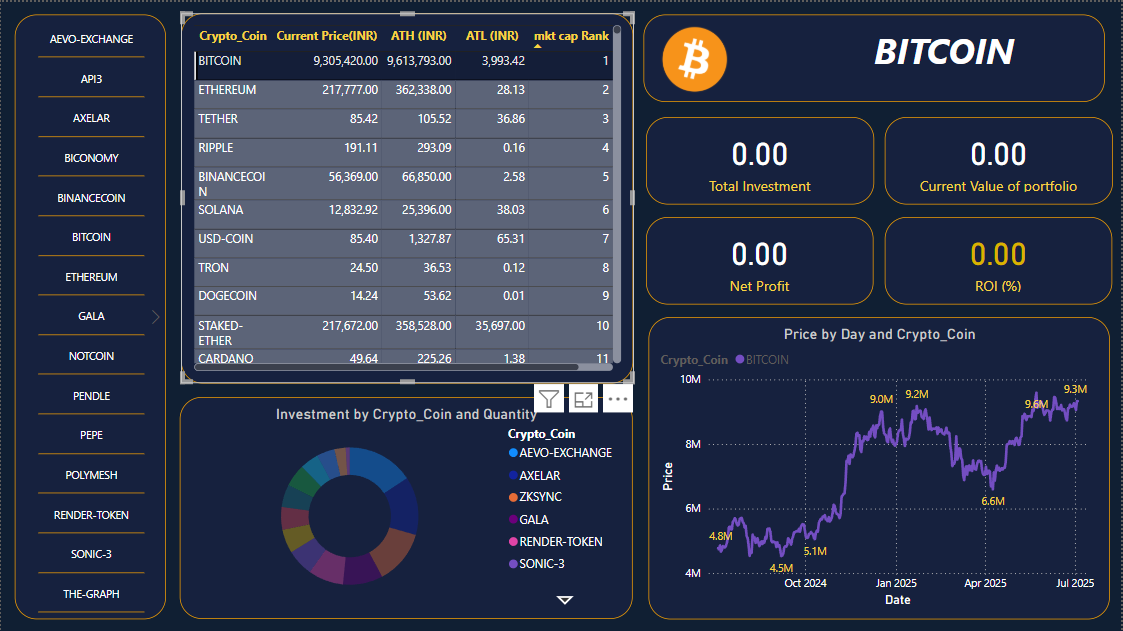

The page's visual inventory and layout, read from the dashboard file:
{"tool":"powerbi","page":{"name":"Overview","canvas":[1280,720],"ordinal":0},"visuals":[{"type":"tableEx","fields":{"Values":["Crypto_coin data.Crypto_Coin","Crypto_coin data.Current Price(INR)","Crypto_coin data.ATH (INR)","Crypto_coin data.ATL (INR)","Crypto_coin data.Market Cap Rank","Crypto_coin data.image"]},"box":[205.7,12.9,517.1,422.9],"z":0},{"type":"lineChart","title":" Price by Day and Crypto_Coin","fields":{"Category":["Historical coin data.Date"],"Y":["Avg(Historical coin data.Price)"],"Series":["Historical coin data.Crypto_Coin"]},"box":[737.4,359.5,527,346.1],"z":1000},{"type":"donutChart","title":"Investment by Crypto_Coin and Quantity","fields":{"Category":["Portfolio.Crypto_Coin"],"Y":["Avg(Portfolio.Initial Investment)"],"Series":["Portfolio.Quantity"]},"box":[204.5,451.5,517.3,253.9],"z":2000},{"type":"card","fields":{"Values":["Portfolio.Initial Investment of portfoilio"]},"box":[736.9,131,260.7,100],"z":3000},{"type":"card","fields":{"Values":["Portfolio.Current Value of portfolio"]},"box":[1010,131,260.7,100.2],"z":4000},{"type":"card","fields":{"Values":["Portfolio.ROI (%)"]},"box":[1010,245,260,100],"z":5000},{"type":"card","fields":{"Values":["Portfolio.Net Profit"]},"box":[737.1,245,260,100],"z":6000},{"type":"slicer","fields":{"Values":["Portfolio.Crypto_Coin"]},"box":[15.7,14.3,172.9,691.4],"z":7000},{"type":"multiRowCard","fields":{"Values":["Crypto_coin data.image1","Portfolio.Coin Name"]},"box":[734.3,14.3,527.1,100],"z":8000},{"type":"actionButton","box":[838.6,31.4,148.6,65.7],"z":9000}]}

Visuals, with their boxes in screenshot pixels (x1, y1, x2, y2), scaled from the page's 1280x720 canvas onto the 1123x631 screenshot:
tableEx - Crypto_coin data.Crypto_Coin x Crypto_coin data.Current Price(INR): 180/11/634/382
" Price by Day and Crypto_Coin" lineChart: 647/315/1109/618
"Investment by Crypto_Coin and Quantity" donutChart: 179/396/633/618
card - Portfolio.Initial Investment of portfoilio: 647/115/875/202
card - Portfolio.Current Value of portfolio: 886/115/1115/203
card - Portfolio.ROI (%): 886/215/1114/302
card - Portfolio.Net Profit: 647/215/875/302
slicer - Portfolio.Crypto_Coin: 14/13/165/618
multiRowCard - Crypto_coin data.image1 x Portfolio.Coin Name: 644/13/1107/100
actionButton: 736/28/866/85
